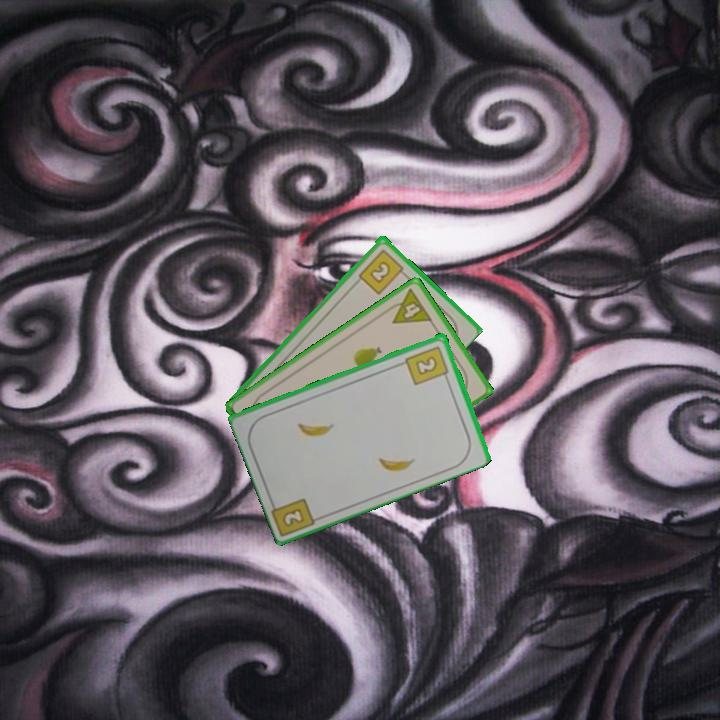2b: (355, 245, 410, 297), (402, 342, 452, 388), (279, 504, 307, 530)
4p: (382, 285, 435, 327)
